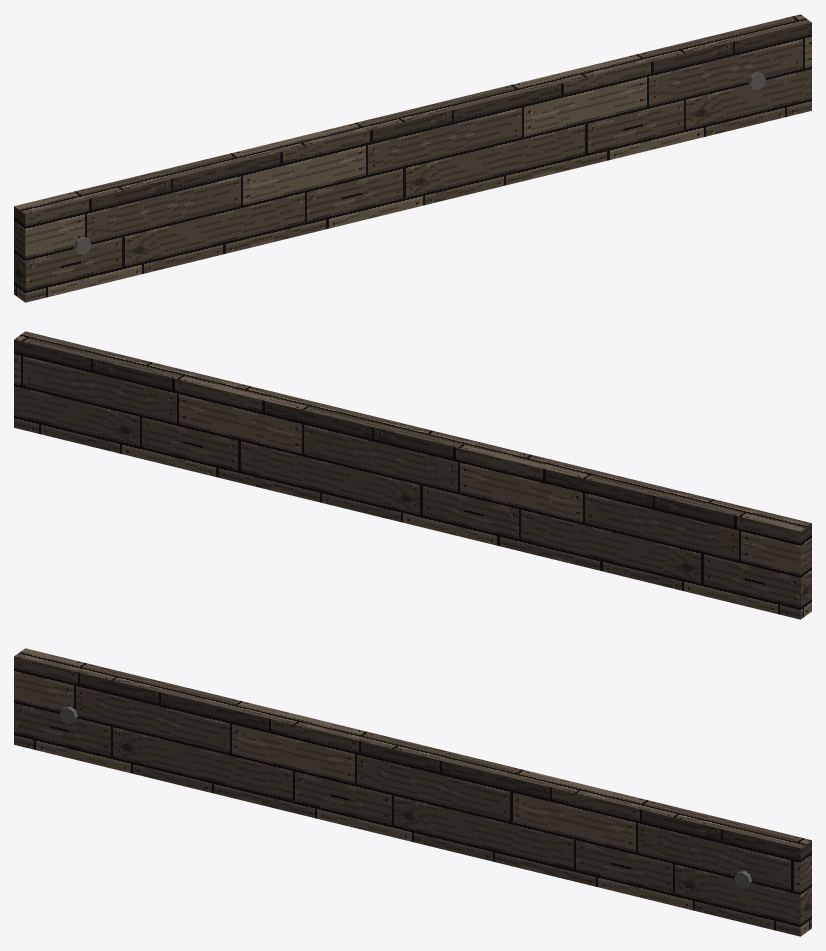
The model's file is PRP_Plank_1.4.glb.
3 views of the same model, one above another, from view 1: azimuth 30°, elevation 25°; view 2: azimuth 150°, elevation 25°; view 3: azimuth 330°, elevation 25° (orthographic).
Parts seen in each view (by area): view 1: Plank; view 2: Plank; view 3: Plank.
Boxes of the visible parts, x1,y1,x2,y2 form: Plank: (14, 14, 811, 302); Plank: (14, 331, 811, 619); Plank: (14, 648, 811, 936).
Bounding box in the file's own units: 1.4 × 0.15 × 0.043.
2 materials, 1 textured.
